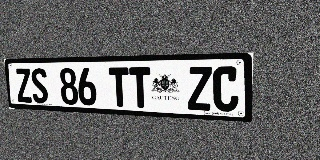6: (77, 68, 97, 106)
8: (59, 68, 79, 105)
C: (213, 66, 239, 112)
S: (30, 68, 49, 104)
T: (129, 67, 151, 108), (108, 67, 130, 107)
Z: (187, 67, 212, 111), (15, 68, 33, 103)
